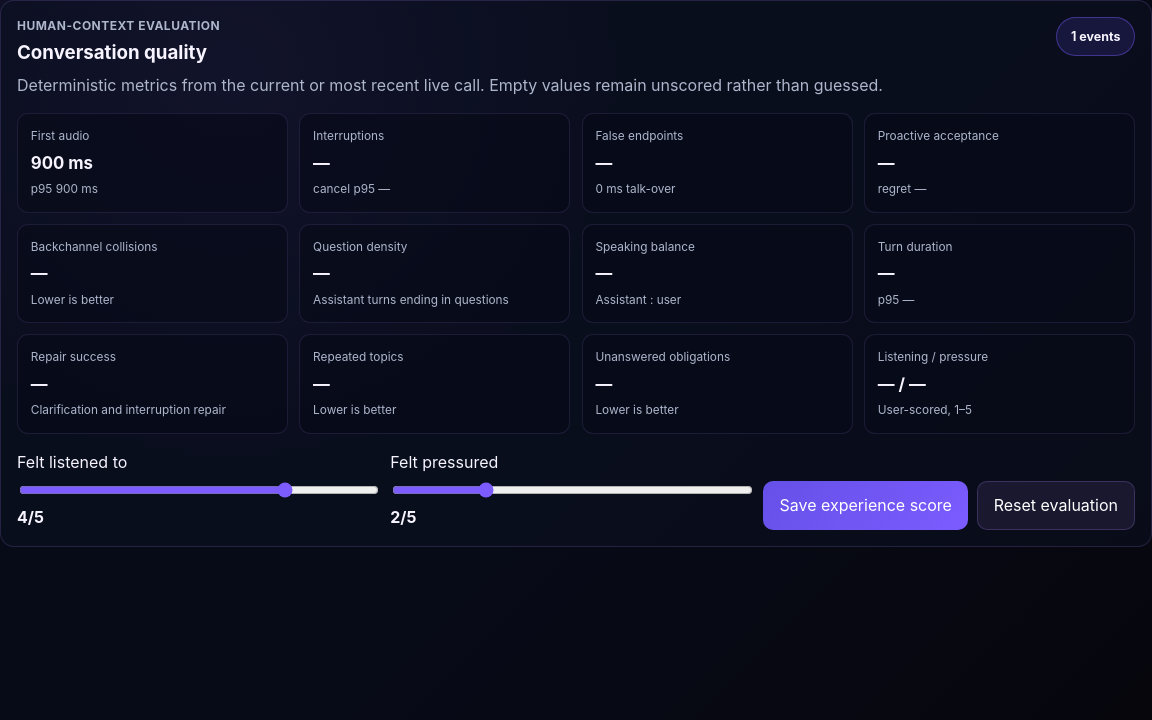
Test: LiveConversationEvaluationPanel › resets the report without inventing values
Click the button "Reset evaluation" at coordinates (1056, 506), box [977,481,1135,530]
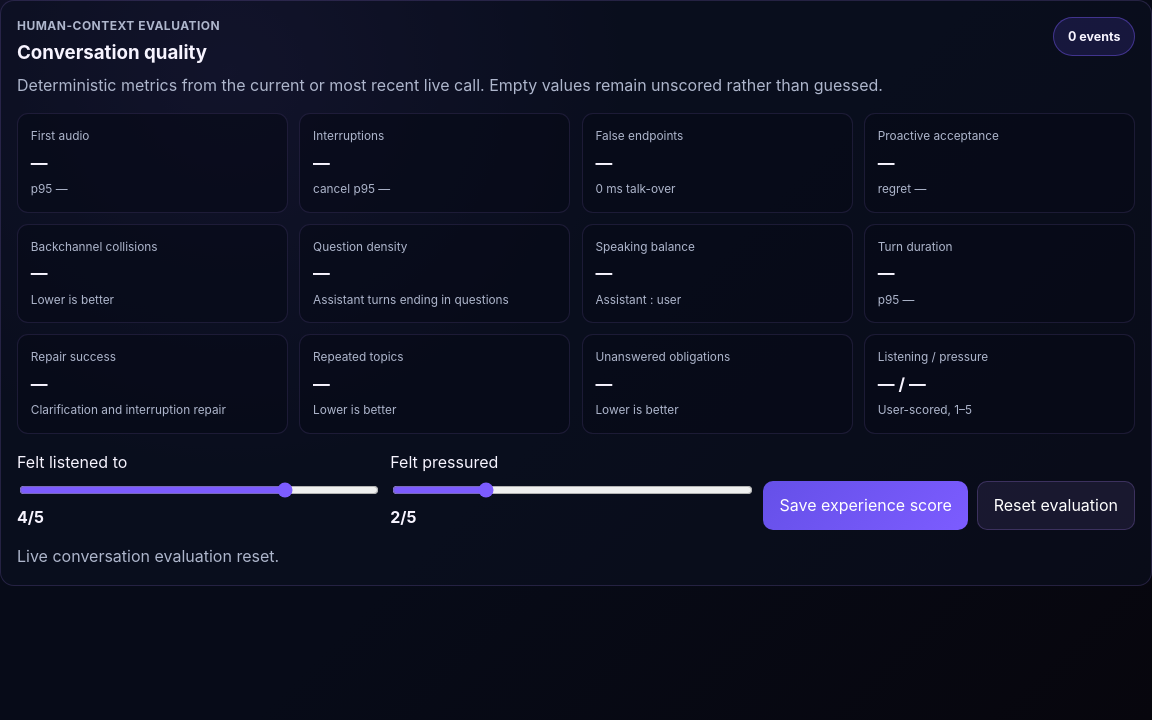
expect the text "0 events" is shown: met, box [1053,17,1135,56]
expect the message shows "evaluation reset": met, box [17,546,279,566]
